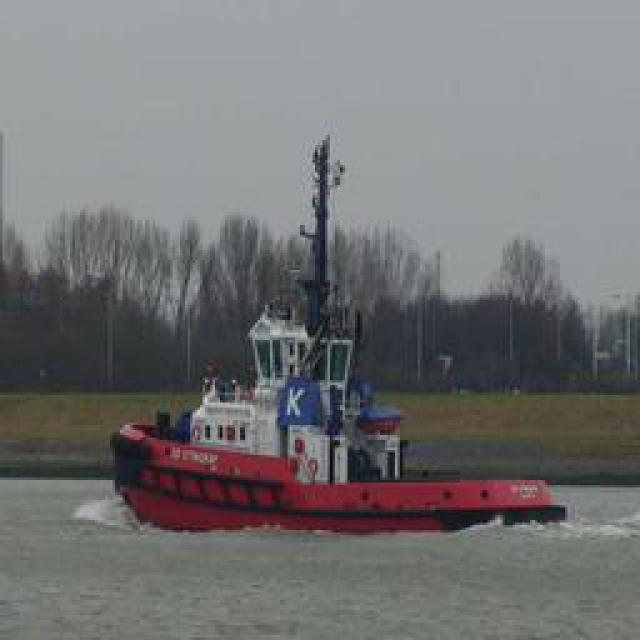Ship: (110, 357, 580, 537)
